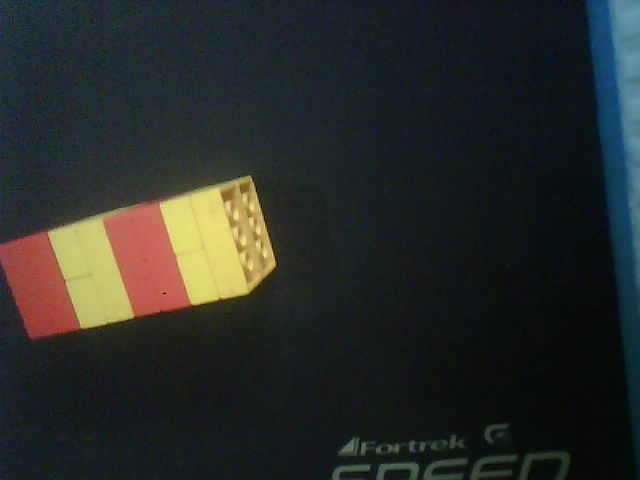lego: (1, 173, 280, 342)
